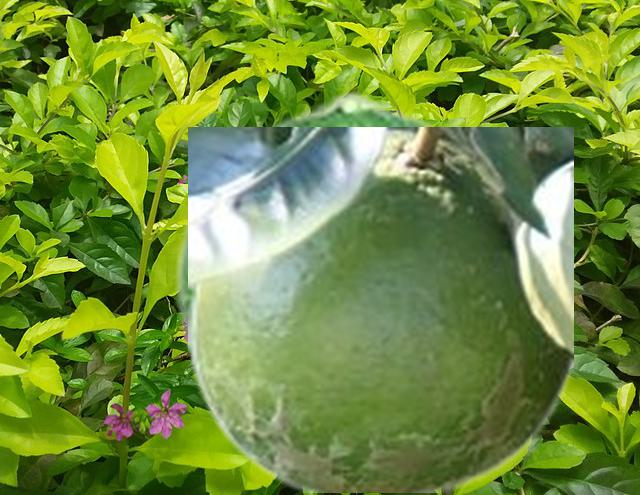dalandan: (188, 127, 572, 491), (171, 89, 445, 374)
